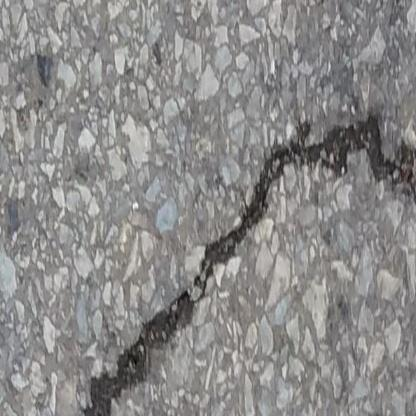Cracks: (81, 112, 416, 416)
